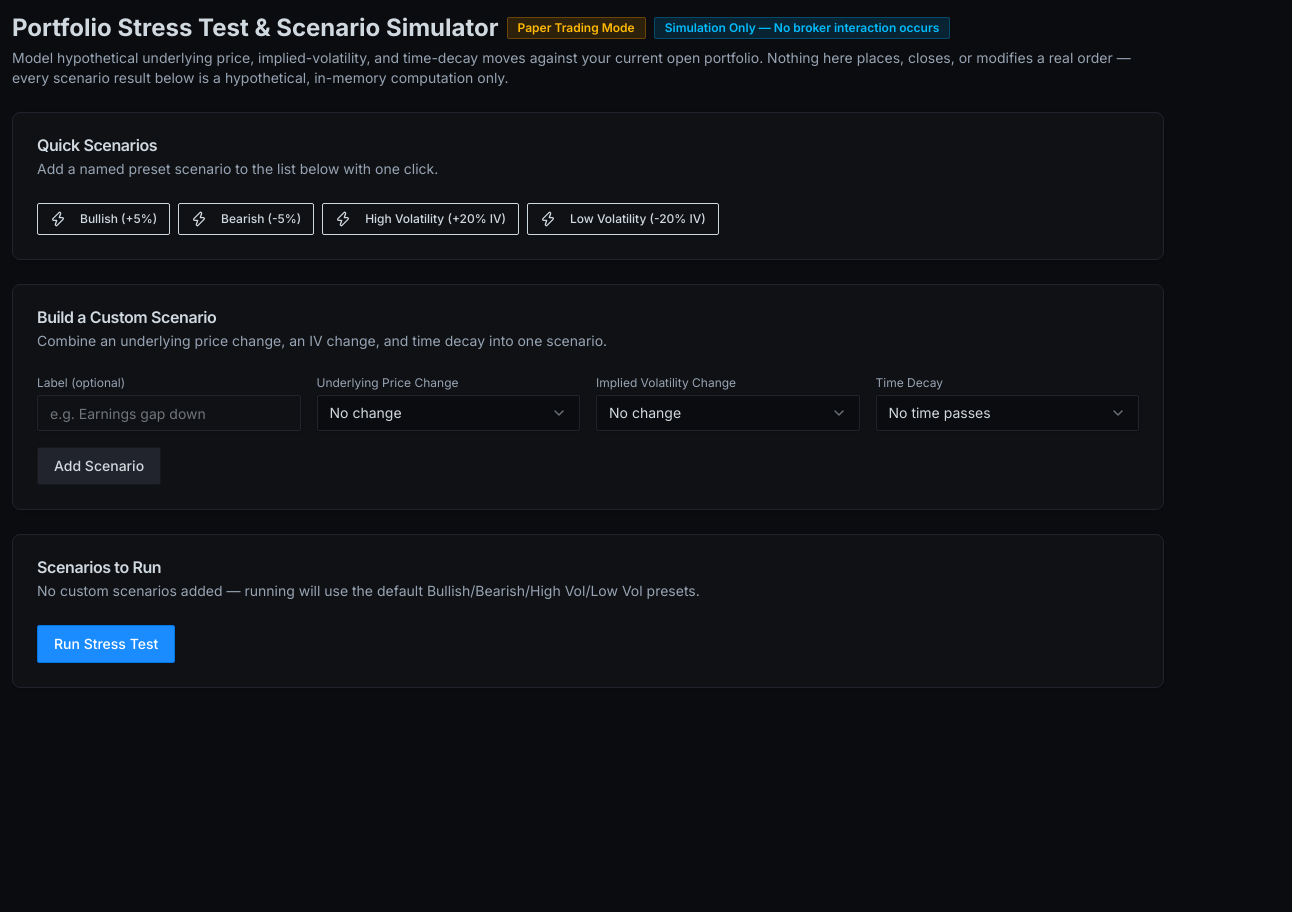
Test: PortfolioStressTest page › adding a quick scenario queues it in the scenario list
Click the button with test id "button-quick-scenario-Bullish-5-".
click(104, 219)  # box [37,203,170,235]
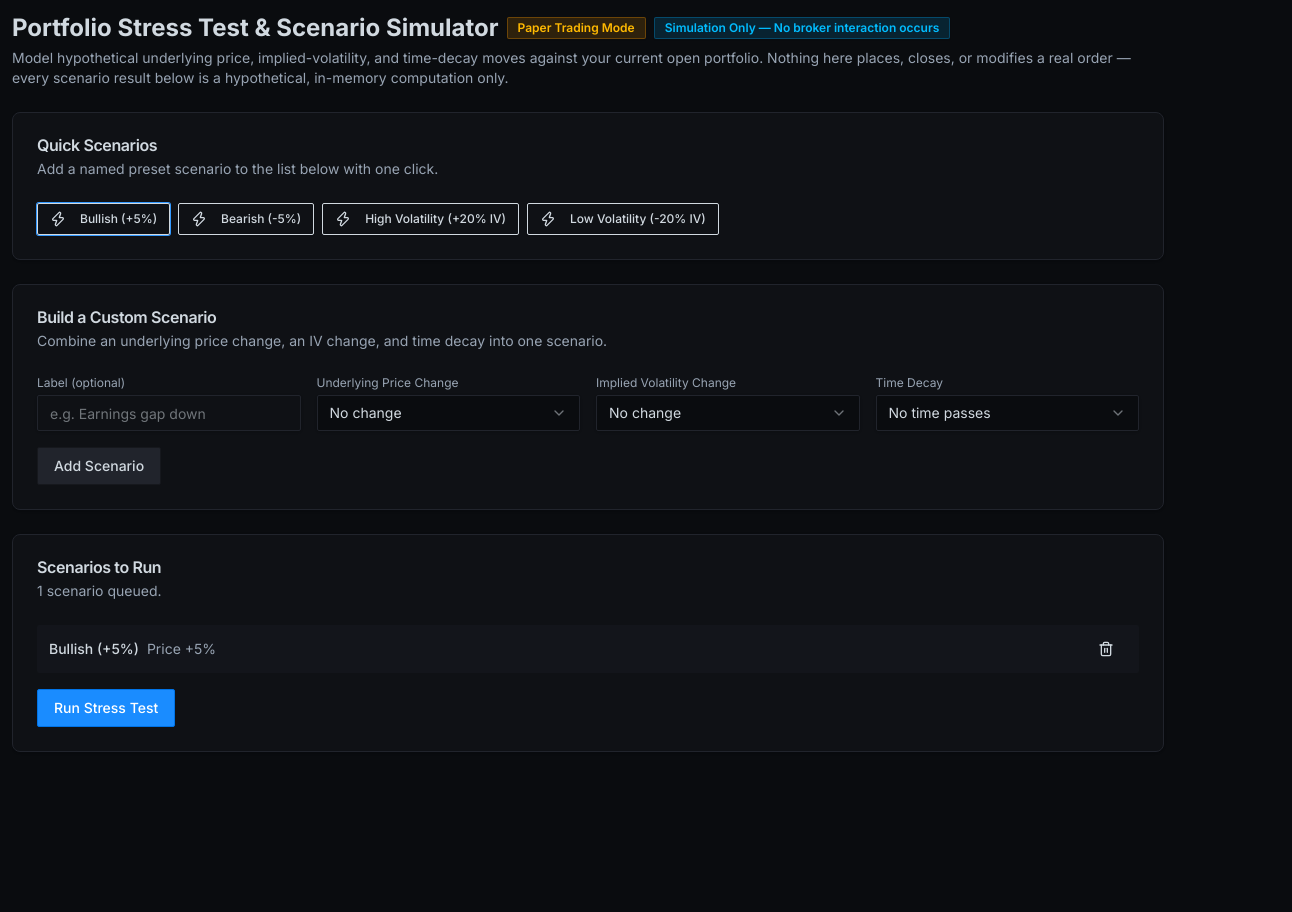
Now the list with test id "list-queued-scenarios" is shown, box [37,625,1139,673]
Now the text "Bullish (+5%)" is shown, box [49,640,139,657]
